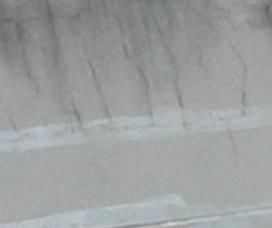fissura: (0, 17, 270, 154)
